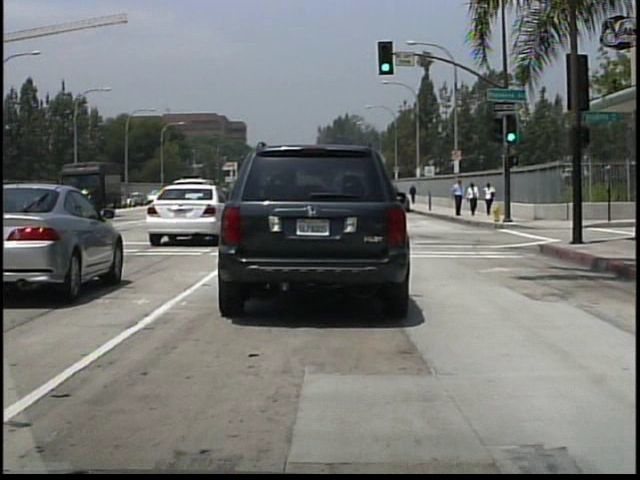person: (450, 178, 465, 219), (481, 179, 495, 215), (465, 180, 479, 216), (407, 183, 417, 206)
